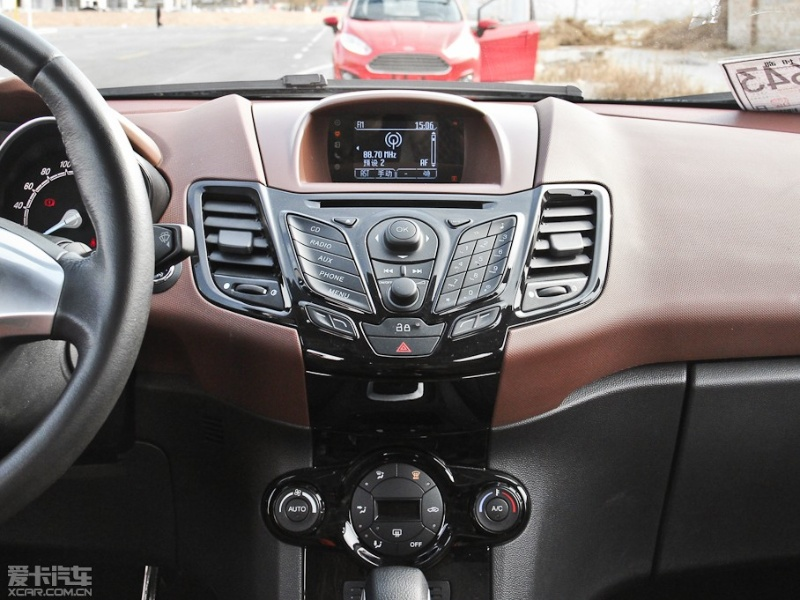control_center: (212, 81, 617, 566)
odometer: (2, 104, 151, 247)
steering_wheel: (1, 20, 213, 470)
